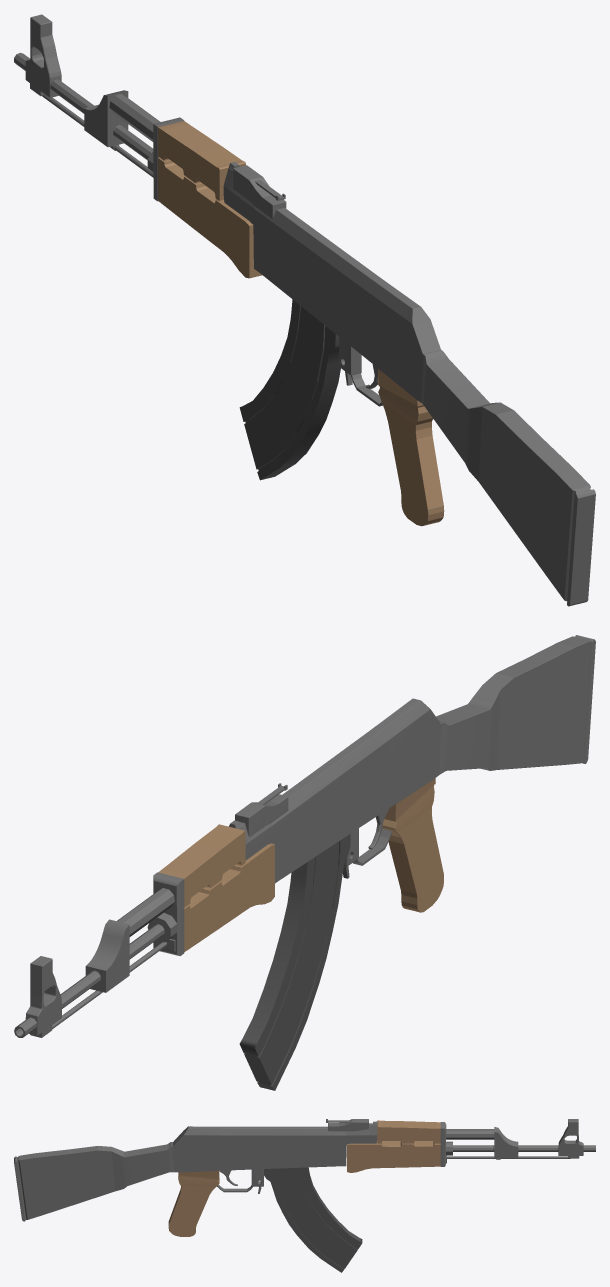
The picture shows the model from 3 angles, top to bottom: view 1: azimuth 30°, elevation 25°; view 2: azimuth 150°, elevation 25°; view 3: azimuth 270°, elevation 25°; orthographic projection. The views are drawn at different scales.
Parts seen in each view (by area): view 1: pCube16; view 2: pCube16; view 3: pCube16.
Boxes of the visible parts, x1,y1,x2,y2 form: pCube16: [14, 14, 595, 606]; pCube16: [14, 635, 595, 1090]; pCube16: [14, 1119, 595, 1272].
Bounding box in the file's own units: 0.6886 × 7.21 × 25.22.
